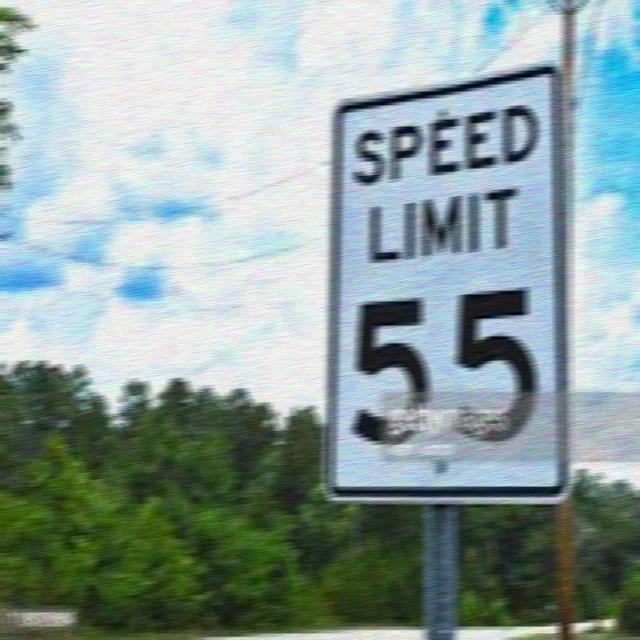speedLimit55: (323, 100, 573, 502)
